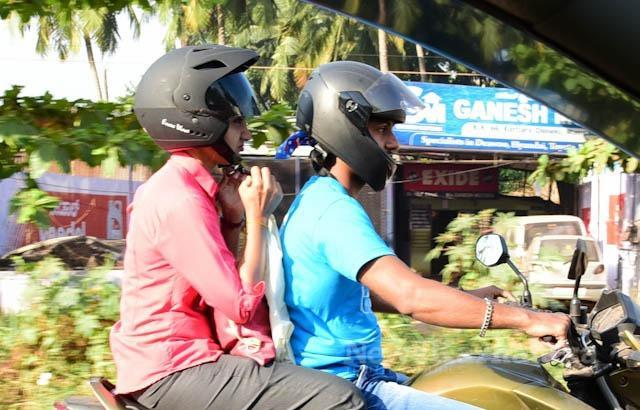helmet: (295, 59, 426, 193), (132, 42, 261, 178)
